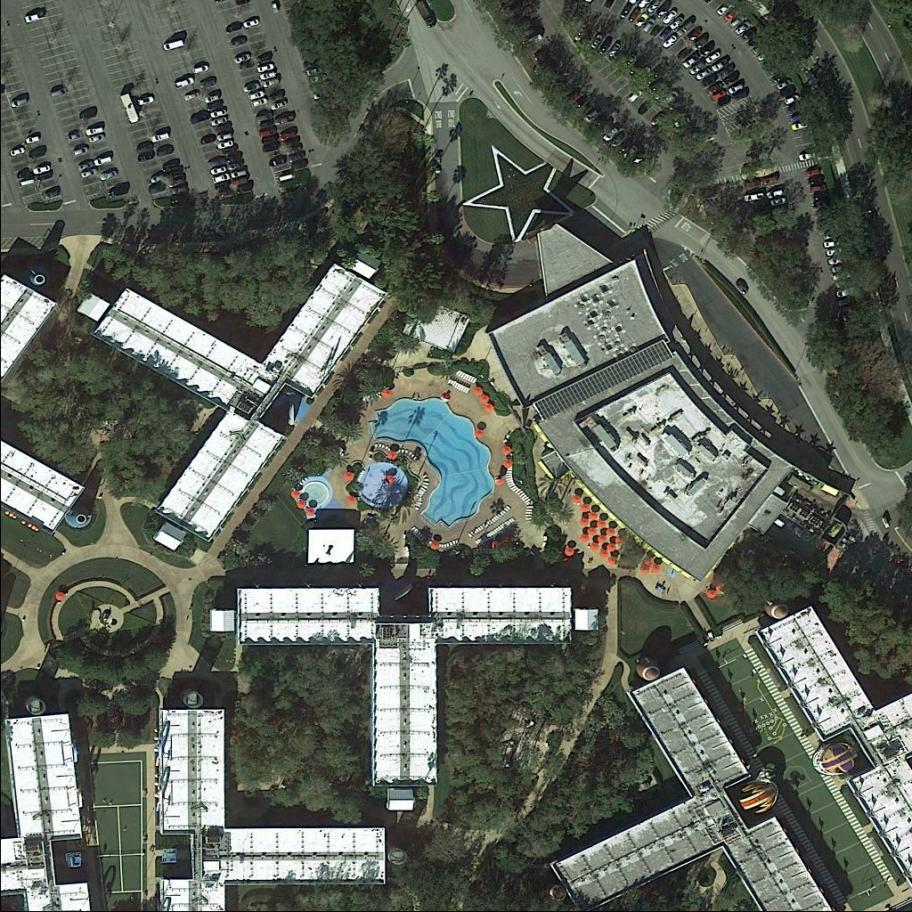large-vehicle: (119, 93, 141, 126)
small-vehicle: (610, 128, 631, 149), (618, 134, 638, 155), (107, 183, 131, 200), (699, 39, 719, 59), (721, 70, 743, 88), (676, 20, 696, 39), (619, 53, 639, 72), (189, 110, 211, 127), (640, 73, 660, 91), (598, 119, 617, 137), (661, 90, 680, 108), (654, 84, 672, 103), (533, 45, 553, 62), (584, 107, 604, 124), (666, 97, 686, 114), (718, 62, 738, 79), (715, 1, 736, 17), (268, 154, 290, 169), (637, 99, 655, 117), (694, 32, 712, 50), (734, 20, 753, 37), (628, 60, 647, 77), (677, 44, 696, 61), (597, 36, 614, 55), (682, 54, 702, 70), (175, 76, 196, 91), (572, 94, 590, 111), (687, 25, 704, 43), (627, 6, 643, 25), (741, 26, 760, 42), (290, 157, 310, 172), (164, 39, 185, 53), (662, 9, 679, 26), (627, 88, 644, 105), (655, 3, 672, 20), (695, 67, 713, 83), (619, 2, 634, 21), (649, 80, 668, 95), (574, 25, 589, 44), (41, 187, 61, 201), (256, 118, 276, 132), (258, 125, 279, 138), (662, 35, 679, 51), (625, 144, 641, 161), (604, 126, 621, 142), (650, 111, 667, 127), (705, 51, 723, 66), (702, 72, 720, 87), (590, 33, 605, 51), (250, 96, 269, 110), (99, 169, 118, 183), (706, 82, 725, 96), (744, 192, 766, 204), (28, 148, 48, 161), (78, 109, 98, 122), (242, 82, 262, 95), (94, 155, 114, 168), (224, 22, 244, 35), (135, 144, 155, 157), (199, 134, 219, 147), (642, 17, 657, 34), (635, 12, 650, 29), (729, 15, 746, 30), (279, 130, 297, 144), (712, 60, 730, 74), (24, 12, 45, 24), (310, 72, 329, 85), (137, 151, 156, 164), (156, 146, 175, 159), (262, 142, 281, 155), (657, 26, 672, 42), (670, 16, 686, 31), (85, 125, 105, 137), (33, 164, 53, 176), (150, 132, 170, 144), (212, 173, 232, 185), (261, 134, 281, 146), (167, 171, 187, 183), (162, 161, 182, 173), (689, 62, 706, 76), (747, 35, 764, 49), (36, 171, 54, 184), (771, 71, 789, 84), (674, 118, 692, 131), (149, 183, 167, 196), (267, 93, 285, 106), (274, 115, 295, 126), (791, 121, 810, 133), (783, 94, 802, 106), (256, 62, 275, 74), (233, 53, 252, 65), (87, 133, 106, 145), (50, 87, 69, 99), (210, 116, 229, 128), (837, 287, 856, 299), (288, 151, 307, 163), (735, 280, 750, 295), (608, 43, 622, 59), (150, 173, 167, 186), (756, 50, 773, 63), (789, 112, 806, 125), (223, 145, 240, 158), (259, 70, 279, 81), (256, 113, 274, 125), (776, 79, 794, 91), (192, 64, 210, 76), (81, 168, 99, 180), (77, 161, 95, 173), (9, 146, 27, 158), (11, 97, 29, 109), (183, 91, 201, 103), (217, 139, 235, 151), (305, 65, 323, 77), (287, 144, 305, 156), (766, 189, 785, 200), (827, 256, 846, 267), (729, 83, 745, 96), (73, 146, 90, 158), (231, 36, 248, 48), (210, 165, 227, 177), (753, 44, 770, 56), (712, 90, 729, 102), (813, 198, 833, 208), (823, 240, 843, 250), (271, 100, 289, 111), (769, 197, 787, 208), (208, 158, 226, 169), (761, 176, 779, 187), (810, 183, 828, 194), (809, 175, 827, 186), (206, 101, 224, 112), (17, 168, 33, 180), (798, 152, 817, 162), (833, 272, 852, 282), (248, 91, 265, 102), (67, 131, 84, 142), (138, 96, 155, 107), (167, 179, 184, 190), (200, 79, 217, 90), (171, 185, 188, 196), (231, 169, 248, 180), (215, 181, 232, 192), (279, 173, 296, 184), (285, 138, 302, 149), (226, 154, 243, 165), (725, 11, 740, 23), (210, 109, 228, 119), (227, 162, 245, 172), (823, 231, 841, 241), (831, 265, 849, 275), (826, 248, 844, 258), (25, 134, 41, 145), (244, 18, 260, 29), (218, 189, 234, 200), (232, 177, 248, 188), (240, 61, 256, 72), (745, 181, 762, 191), (813, 191, 830, 201), (256, 57, 273, 67), (205, 94, 220, 105), (835, 280, 853, 289), (806, 168, 822, 178), (19, 178, 36, 187), (236, 188, 252, 197), (216, 134, 233, 142)
